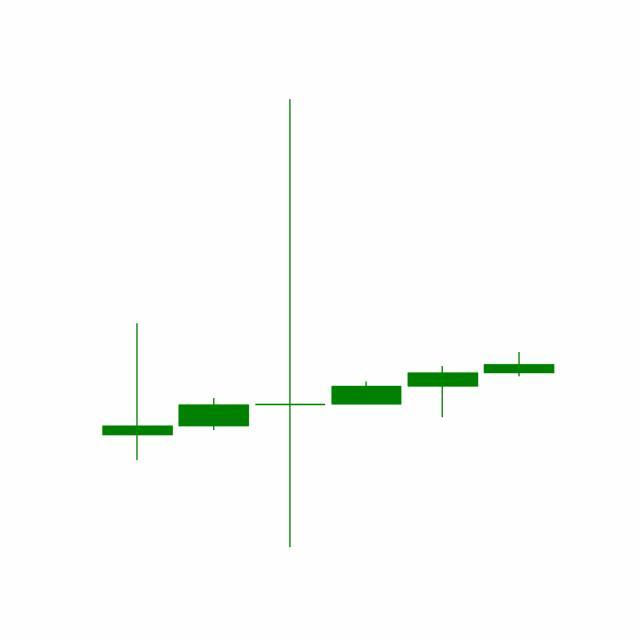Hanging Man: (404, 366, 482, 419)
